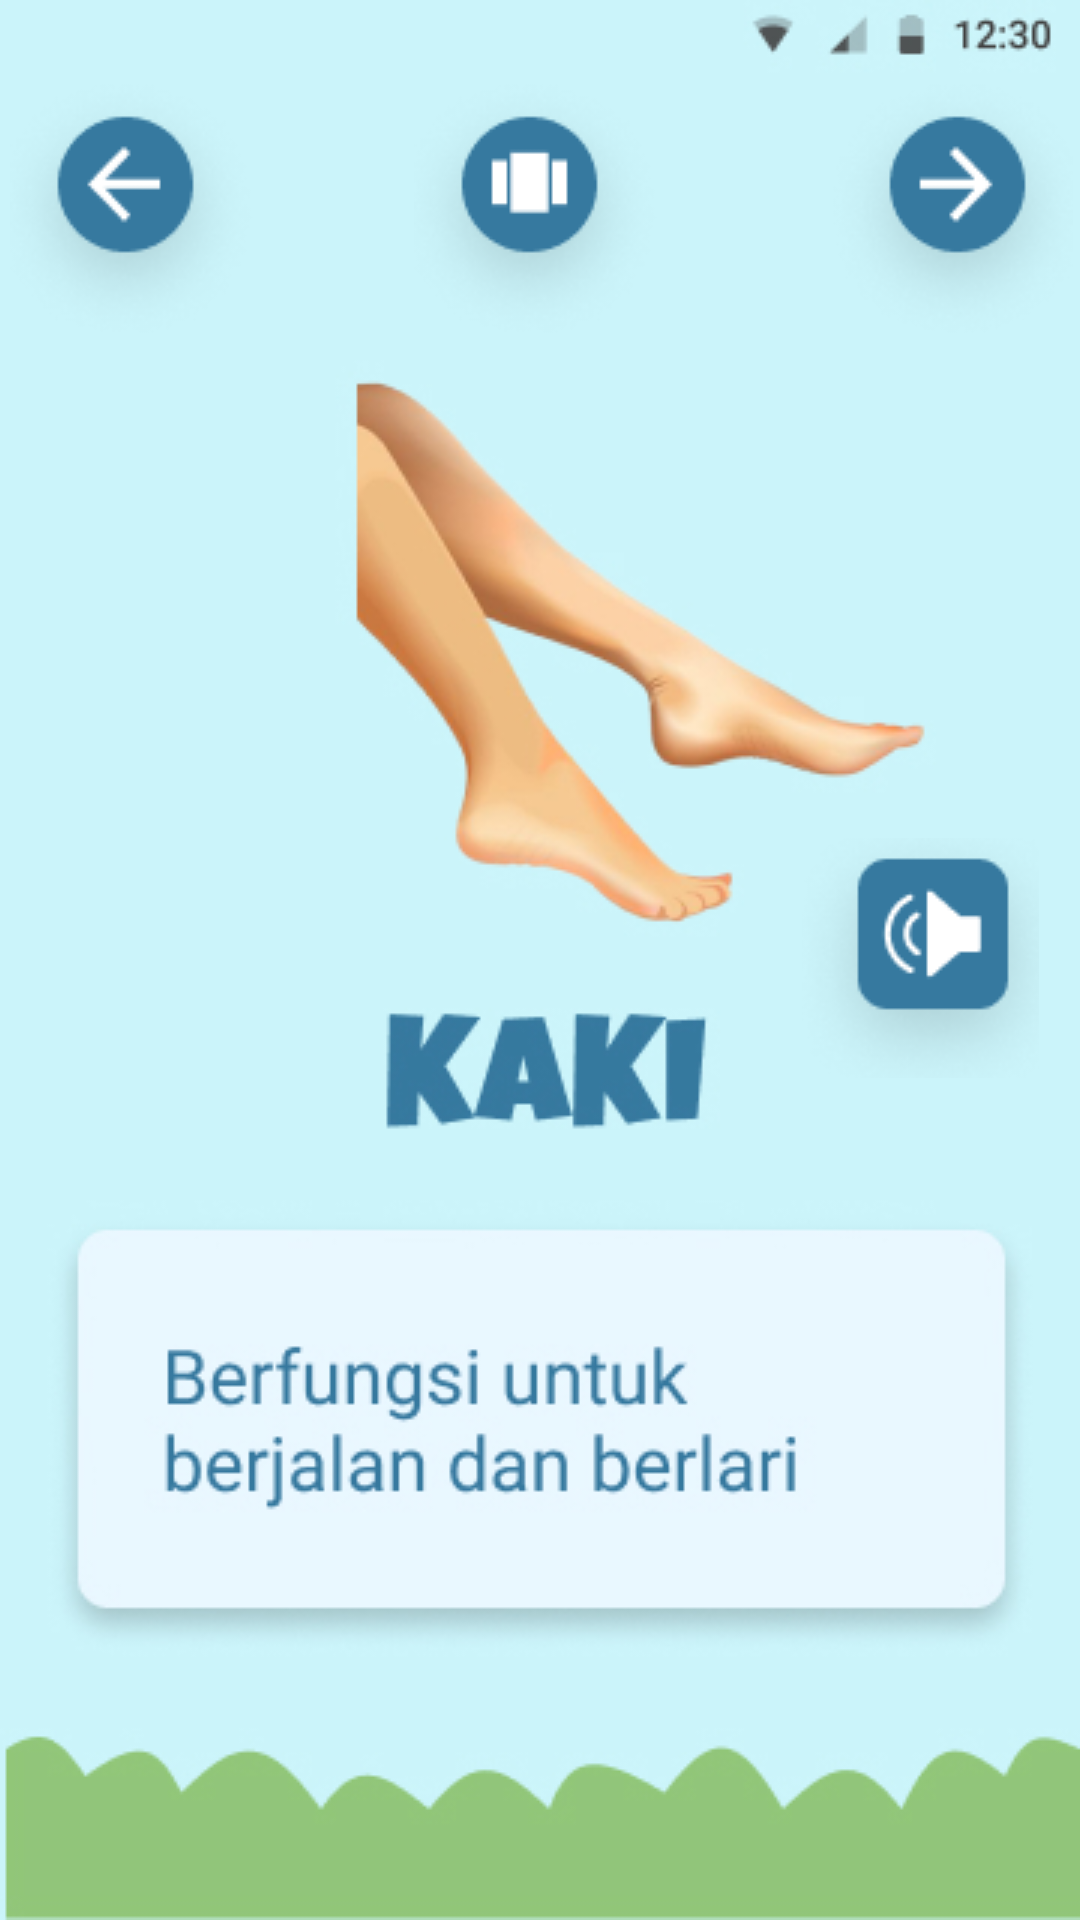

Named icons in this screenshot (1080×1920) and their centers, (x=x, y=y):
audio: (x=933, y=939)
